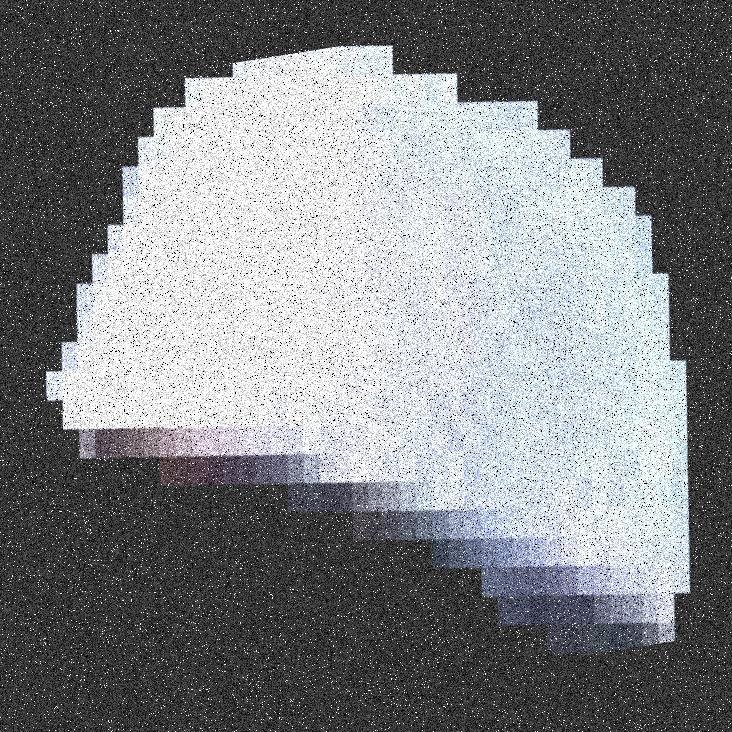Capacete: (171, 0, 731, 731)
